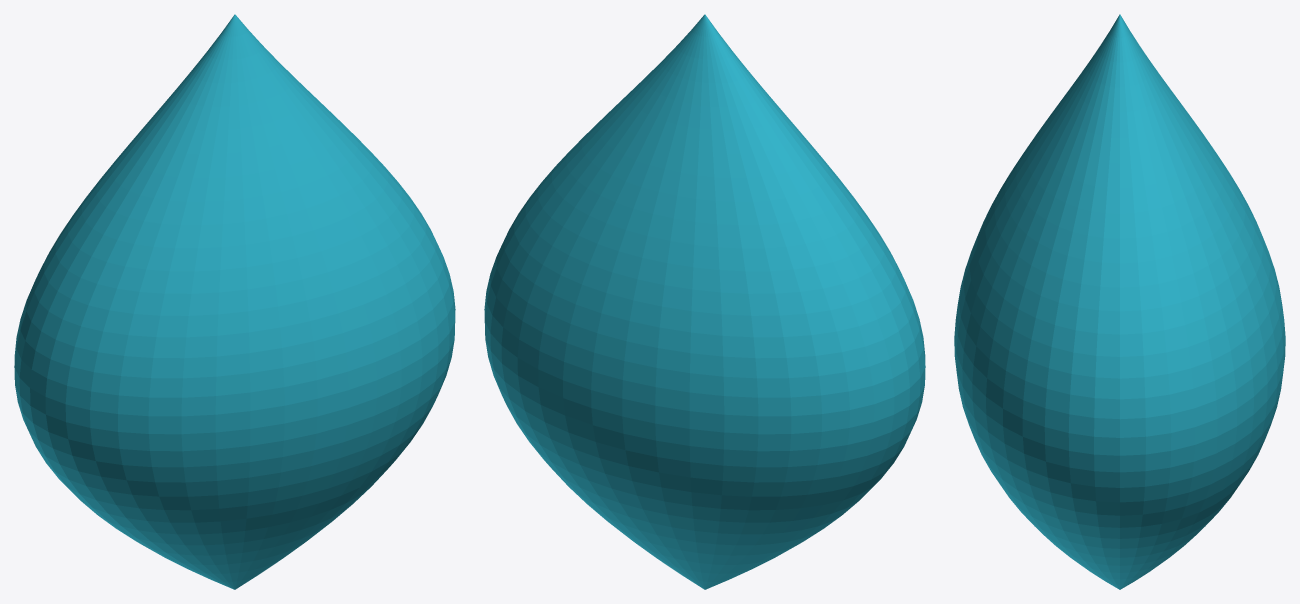
File: water-deity-droplet-v03.glb
The picture shows the model from 3 angles, left to right: view 1: azimuth 30°, elevation 25°; view 2: azimuth 150°, elevation 25°; view 3: azimuth 270°, elevation 25°; orthographic projection.
Parts seen in each view (by area): view 1: Deity halo V03 aquamarine 0; view 2: Deity halo V03 aquamarine 0; view 3: Deity halo V03 aquamarine 0.
Part boxes in pixels (x1,y1,x2,y2): Deity halo V03 aquamarine 0: (14, 14, 455, 589); Deity halo V03 aquamarine 0: (484, 14, 925, 589); Deity halo V03 aquamarine 0: (954, 14, 1285, 589).
Bounding box in the file's own units: 0.1936 × 0.26 × 0.1356.
